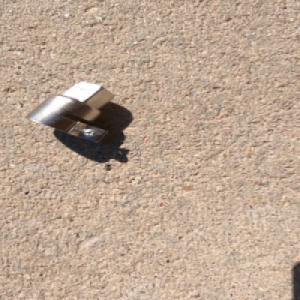MetalPart: (22, 80, 117, 144)
